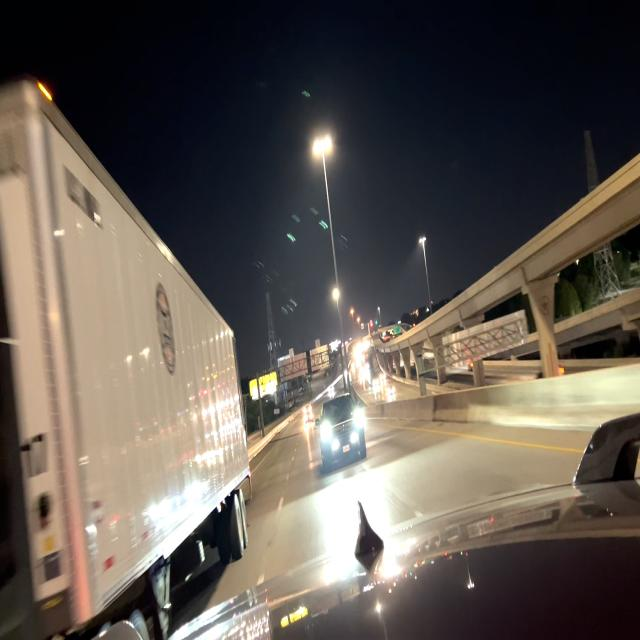back-of-sign: (442, 310, 528, 376), (278, 339, 330, 383)
